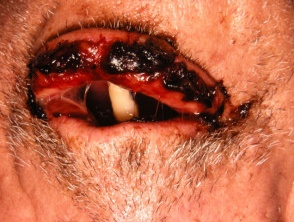SJS-TEN: (12, 0, 274, 149)
